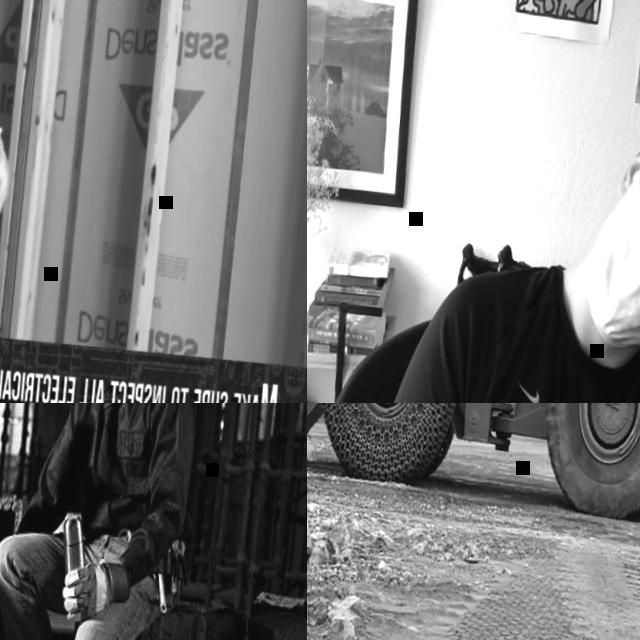Mask: (581, 185, 640, 354)
NO-Safety Vest: (418, 272, 640, 403), (54, 403, 175, 541)
Person: (342, 48, 640, 403), (0, 403, 222, 640)
machinery: (307, 403, 640, 535)
